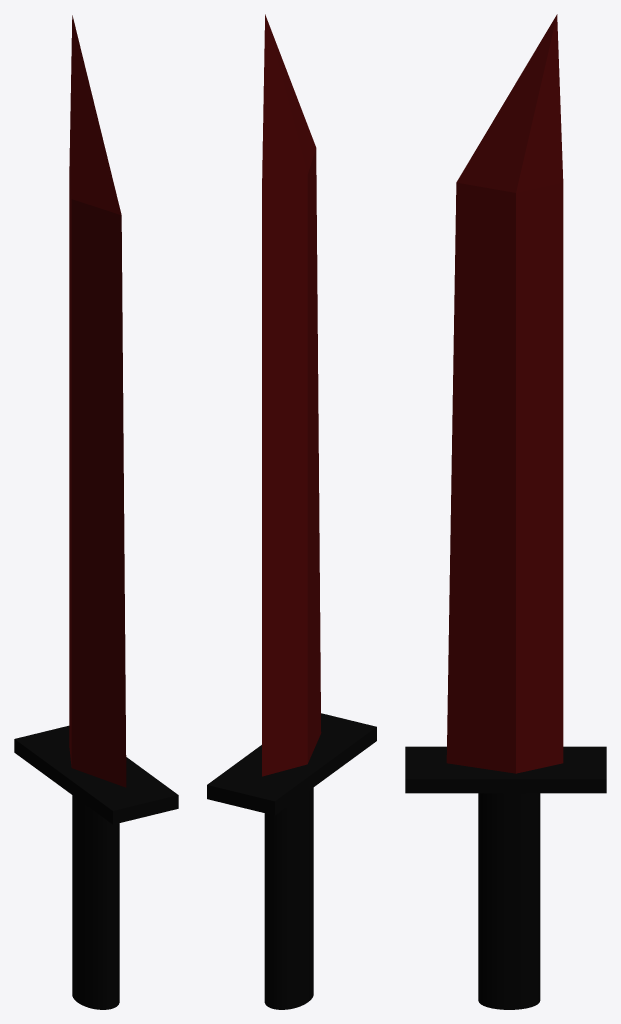
Rendered from knife.fbx.
3 renders of one model, left to right at view 1: azimuth 30°, elevation 25°; view 2: azimuth 150°, elevation 25°; view 3: azimuth 270°, elevation 25°, orthographic. The views are drawn at different scales.
Parts seen in each view (by area): view 1: Blade, Cylinder, Hilt; view 2: Blade, Cylinder, Hilt; view 3: Blade, Cylinder, Hilt.
Boxes of the visible parts, x1,y1,x2,y2 form: Blade: (69, 15, 126, 787); Cylinder: (72, 795, 119, 1009); Hilt: (14, 725, 178, 824); Blade: (262, 14, 321, 776); Cylinder: (264, 787, 313, 1009); Hilt: (207, 713, 376, 815); Blade: (446, 14, 563, 773); Cylinder: (478, 793, 540, 1009); Hilt: (405, 746, 606, 793).
Size of the model in its own units: 20 by 282 by 52.
